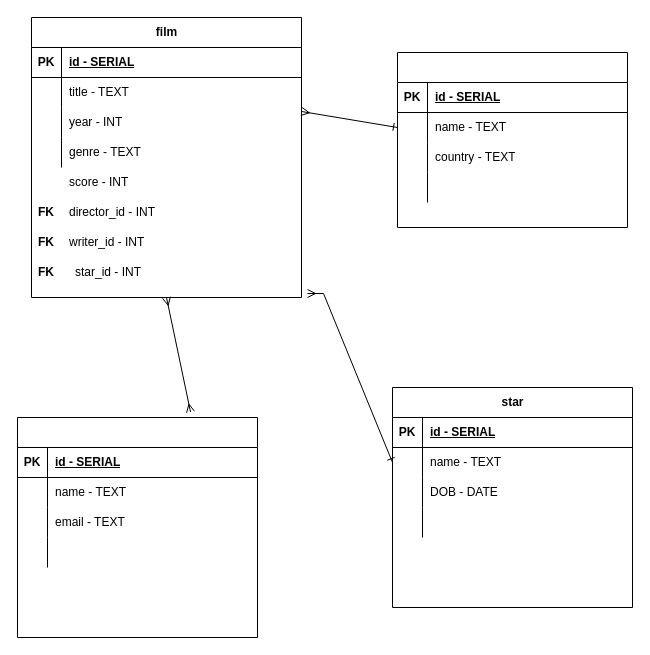
Some shapes in this 650 by 655 pixel diagram are drawn without their labels. The box of each missing label's shape, as (x1, y1, x2, y2) in pixels:
director: (396, 52, 628, 228)
writer: (16, 416, 258, 638)
